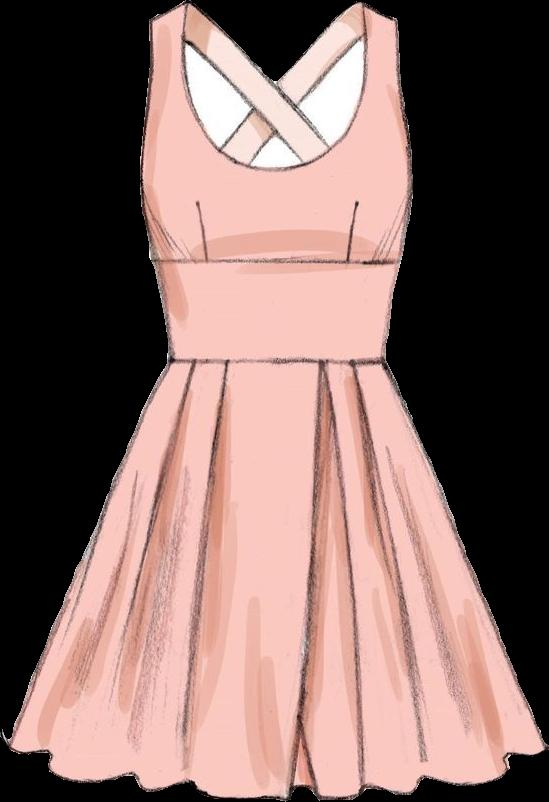Bodice: (139, 1, 412, 364)
Hemline: (7, 736, 548, 801)
Neckline: (178, 1, 374, 168), (149, 253, 400, 269)
Skirt: (6, 359, 546, 800)
Waistline: (165, 351, 390, 370)
